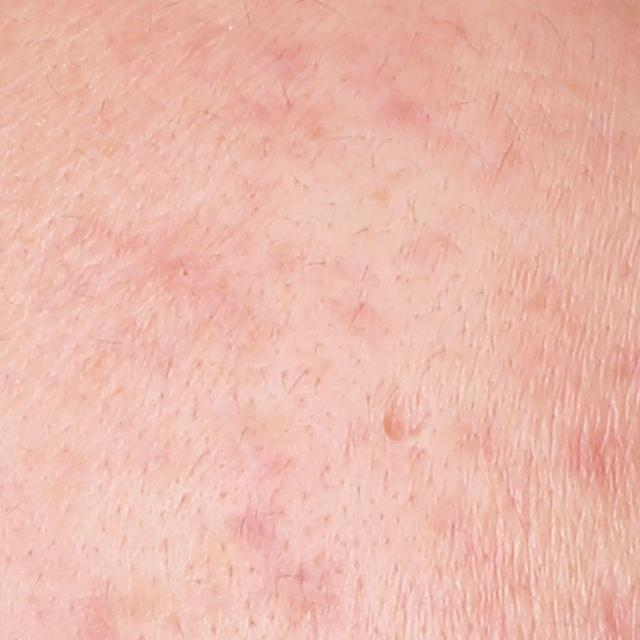atrophic_scar: (380, 385, 447, 451)
